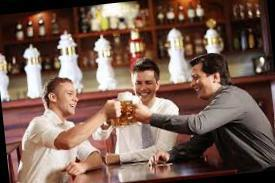Drunk: (188, 64, 213, 100), (132, 68, 157, 104), (61, 82, 79, 118)
